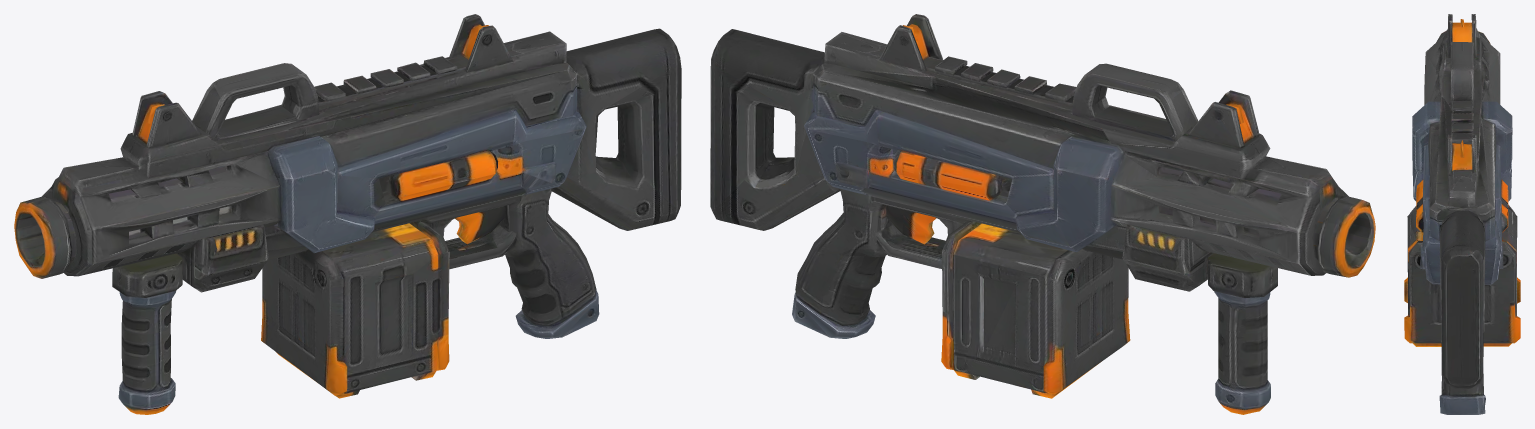
Rendered from heavy_gun.glb.
3 renders of one model, left to right at view 1: azimuth 30°, elevation 25°; view 2: azimuth 150°, elevation 25°; view 3: azimuth 270°, elevation 25°, orthographic. The views are drawn at different scales.
Parts seen in each view (by area): view 1: mesh_node; view 2: mesh_node; view 3: mesh_node.
Boxes of the visible parts, x1,y1,x2,y2 form: mesh_node: (14, 14, 681, 414); mesh_node: (710, 14, 1375, 414); mesh_node: (1404, 14, 1520, 414).
Size of the model in its own units: 1 by 0.4874 by 0.207.
1 material, 1 textured.
